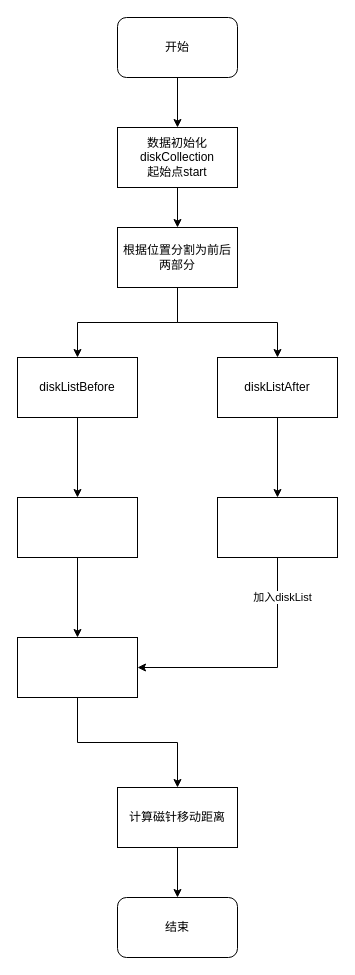
This 355x975 diagram has some shape labels left out. Here are the shapes that lost their labels. From the top down, the centre of each, then its label:
the point at 77,527: 升序排序后为diskList
the point at 277,527: 降序排序
the point at 77,667: diskList
